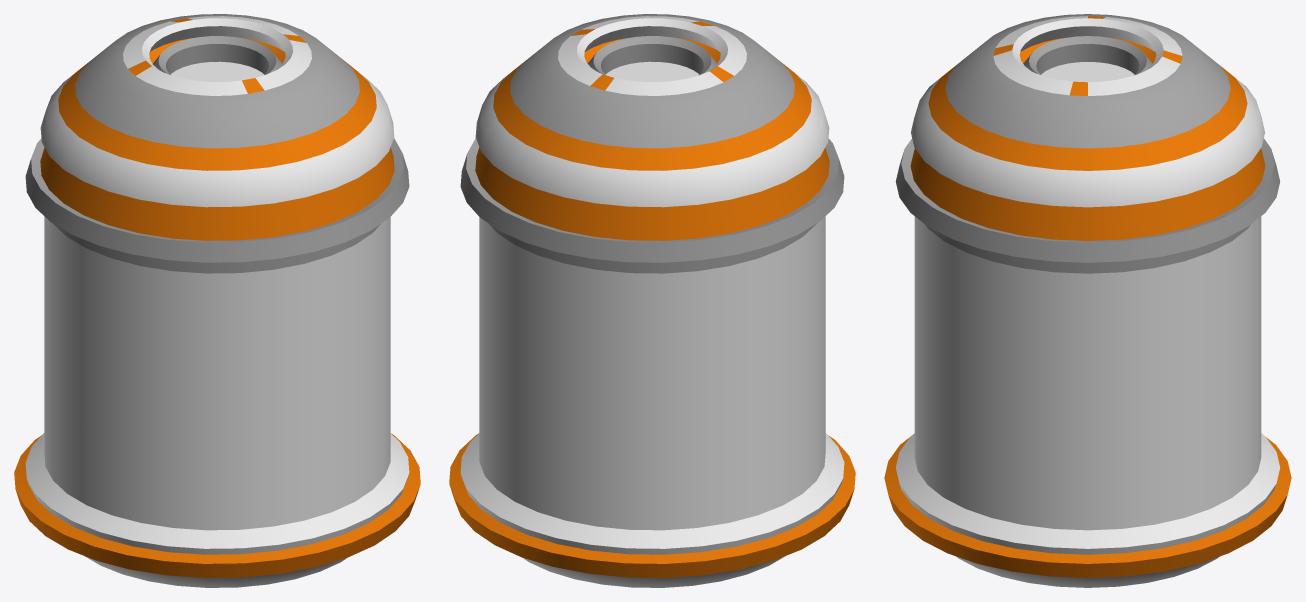
The model's file is SmallEnemy.fbx.
3 views of the same model, side by side, from view 1: azimuth 30°, elevation 25°; view 2: azimuth 150°, elevation 25°; view 3: azimuth 270°, elevation 25° (orthographic).
Visible parts, largest first — view 1: SmallCylinder; view 2: SmallCylinder; view 3: SmallCylinder.
Part boxes in pixels (<box>): SmallCylinder: <box>14,14,420,587</box>; SmallCylinder: <box>449,14,855,587</box>; SmallCylinder: <box>884,14,1291,587</box>.
Bounding box in the file's own units: 14.63 × 19.07 × 14.63.
